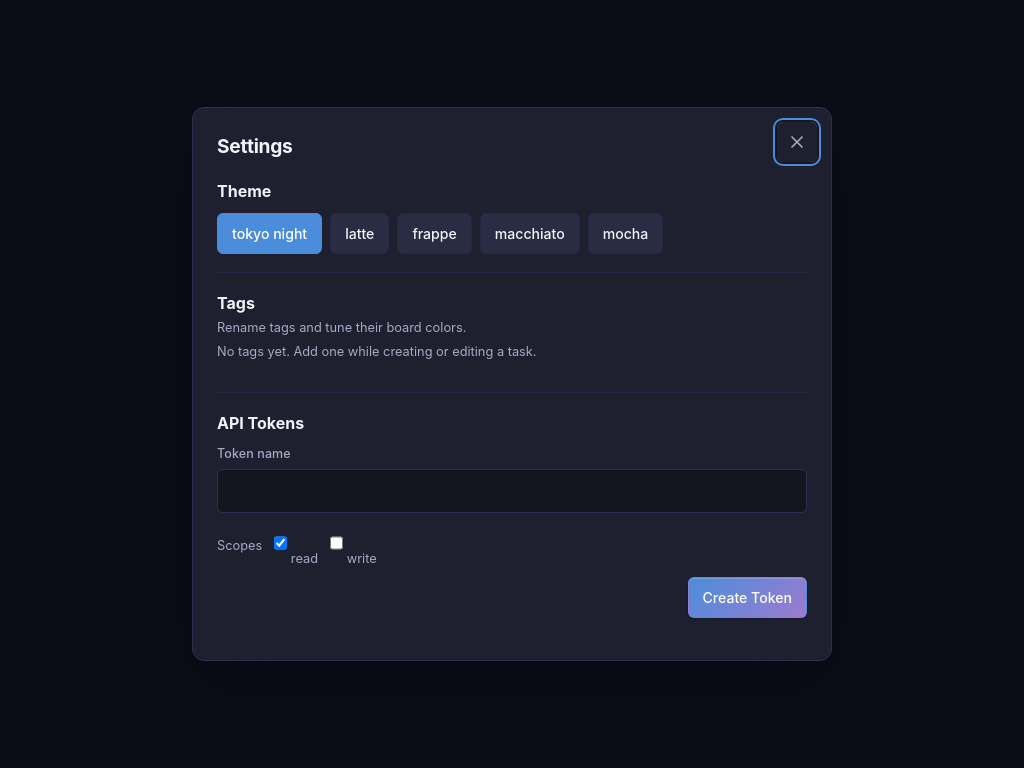
App › confirms token creation and copying and warns that the secret is shown once
Type "CLI" into the field labelled "Token name" at coordinates (512, 491), box [217,469,807,513]
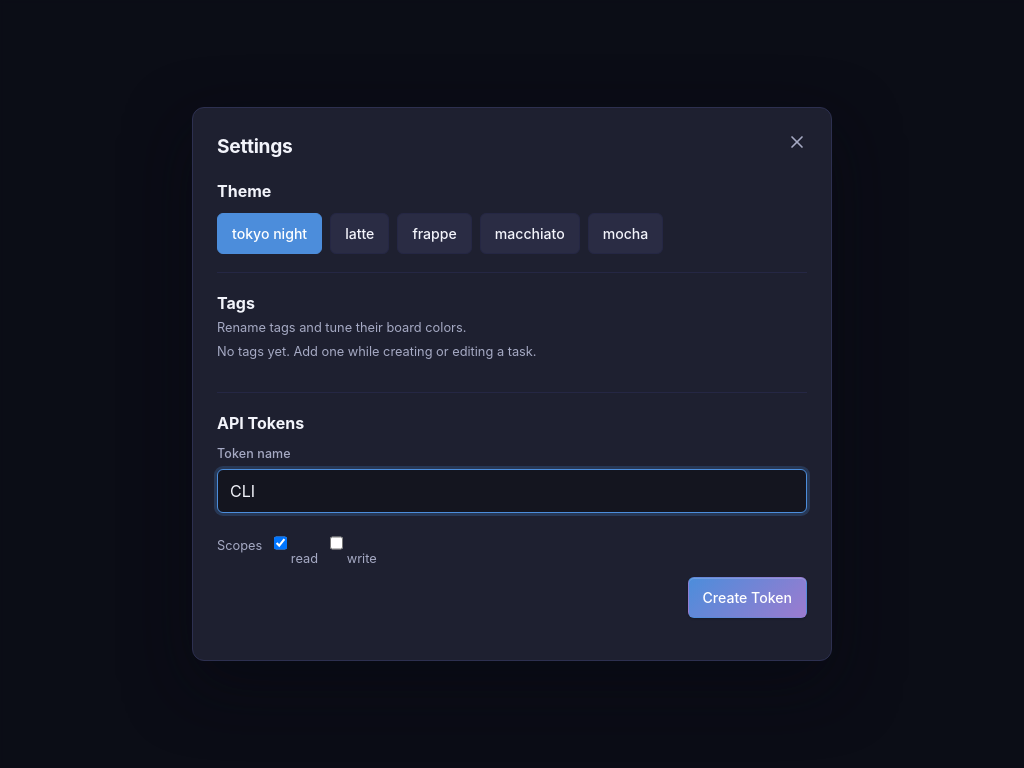
Click the button "Create Token" at coordinates (747, 597), box [688,576,807,618]
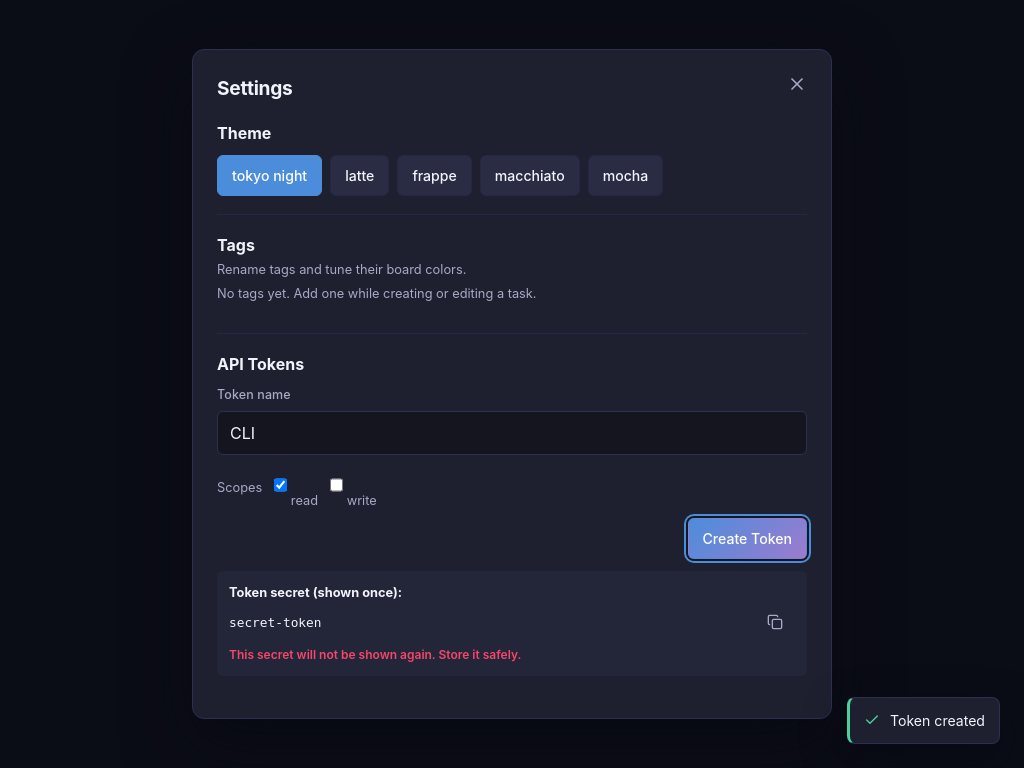
Expected: the text "This secret will not be shown again. Store it safely." is shown, [229,647,521,662]
Click the button named "Copy secret" at coordinates (775, 622), box [755,602,795,642]
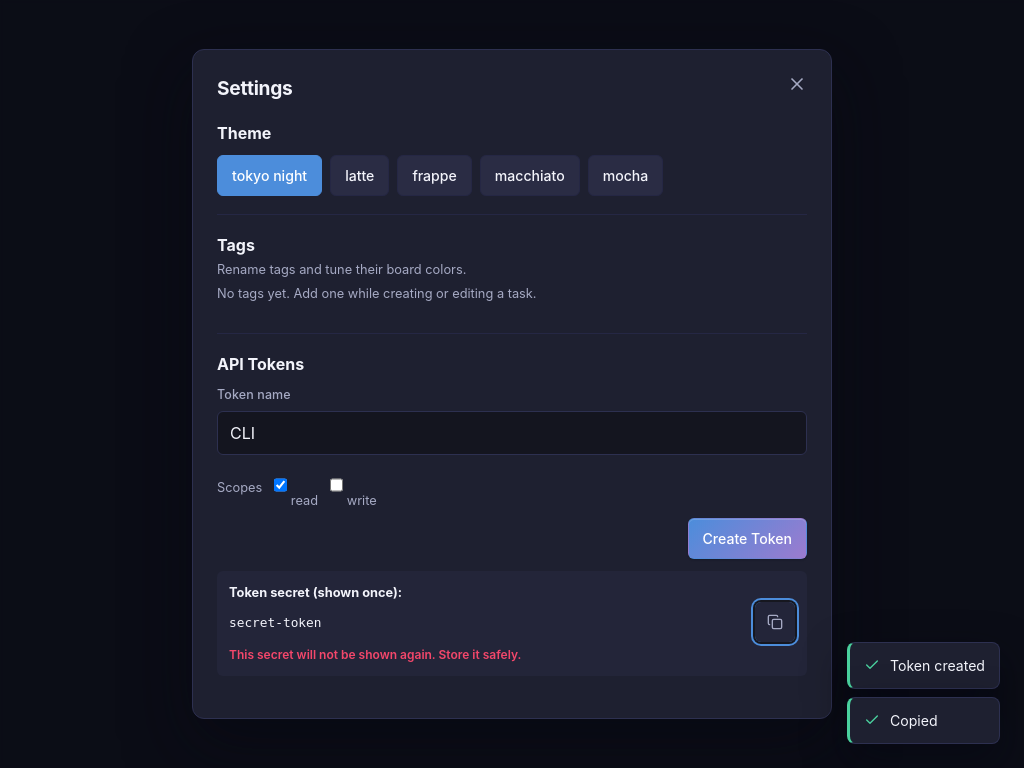
Expected: the text "Copied" is shown, [890,710,938,731]
